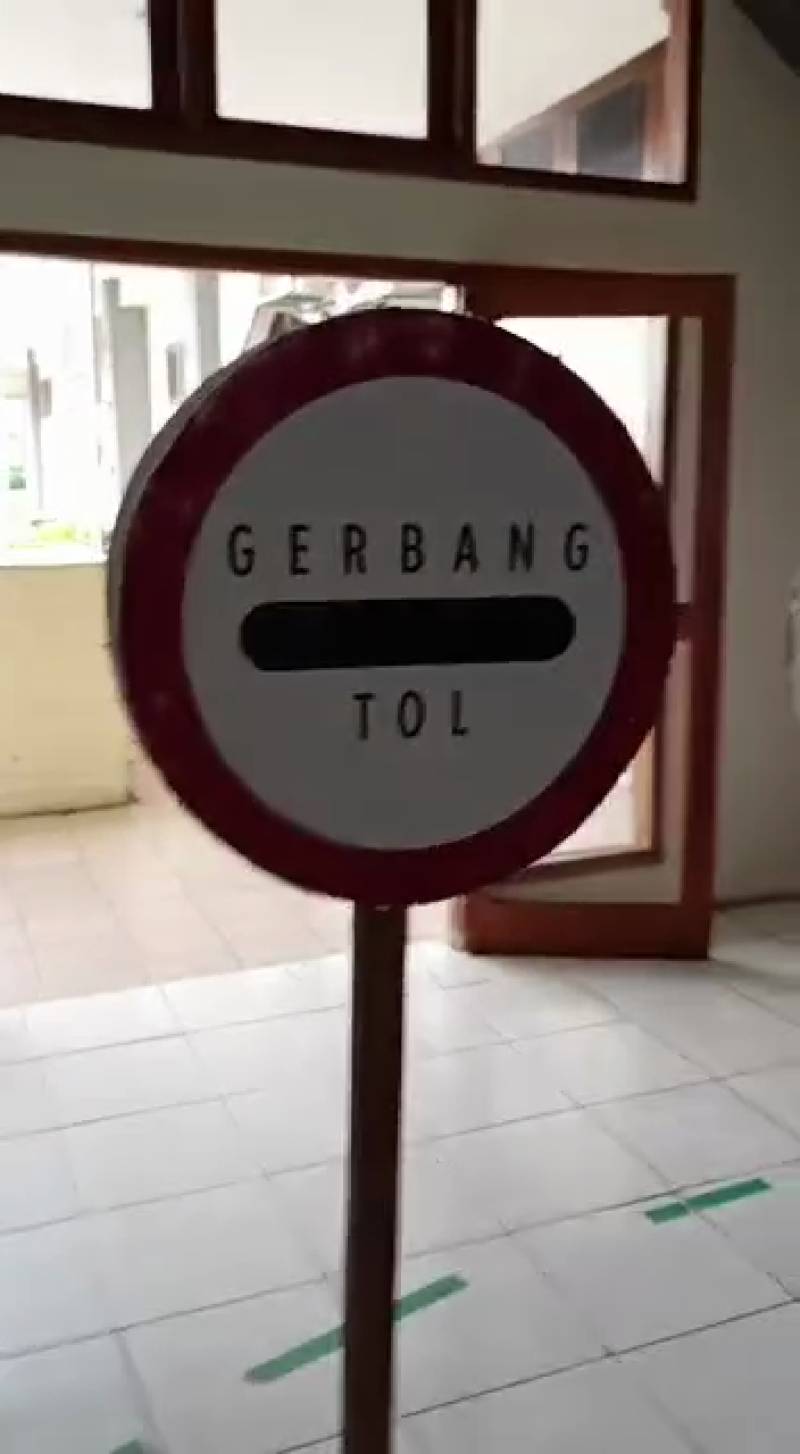gerbang tol: (104, 296, 689, 909)
